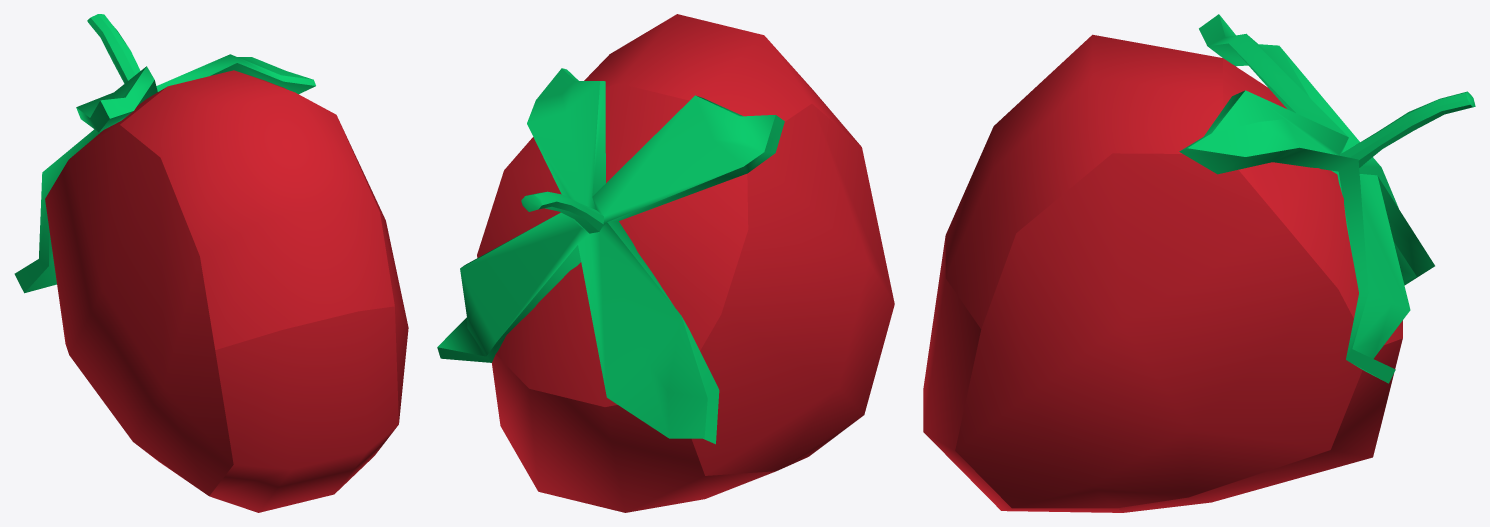
File: strawberrytexture.fbx
3 renders of one model, left to right at view 1: azimuth 30°, elevation 25°; view 2: azimuth 150°, elevation 25°; view 3: azimuth 270°, elevation 25°, orthographic. The views are drawn at different scales.
Parts seen in each view (by area): view 1: polySurface4; view 2: polySurface4; view 3: polySurface4.
Boxes of the visible parts, x1,y1,x2,y2 form: polySurface4: [14, 14, 408, 512]; polySurface4: [437, 14, 894, 512]; polySurface4: [923, 14, 1475, 512].
Bounding box in the file's own units: 1.28 × 1.58 × 1.81.
